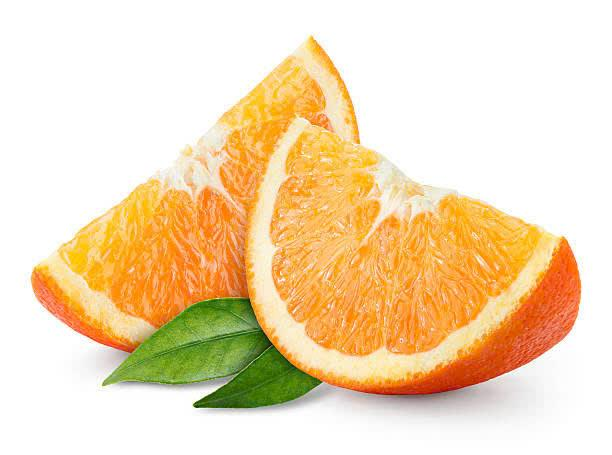orange: (44, 27, 307, 377), (282, 104, 581, 392)
